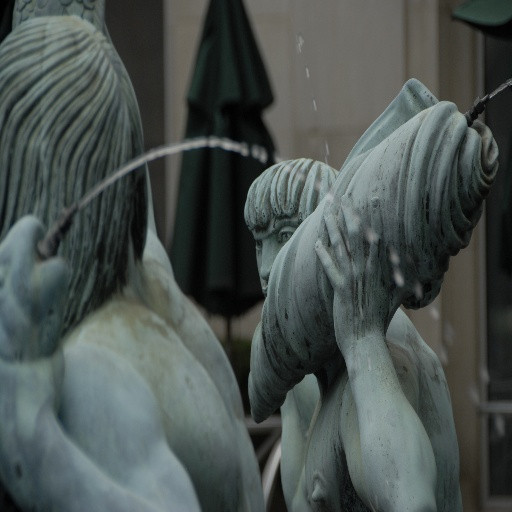hand: (315, 192, 391, 340), (0, 339, 65, 486)
